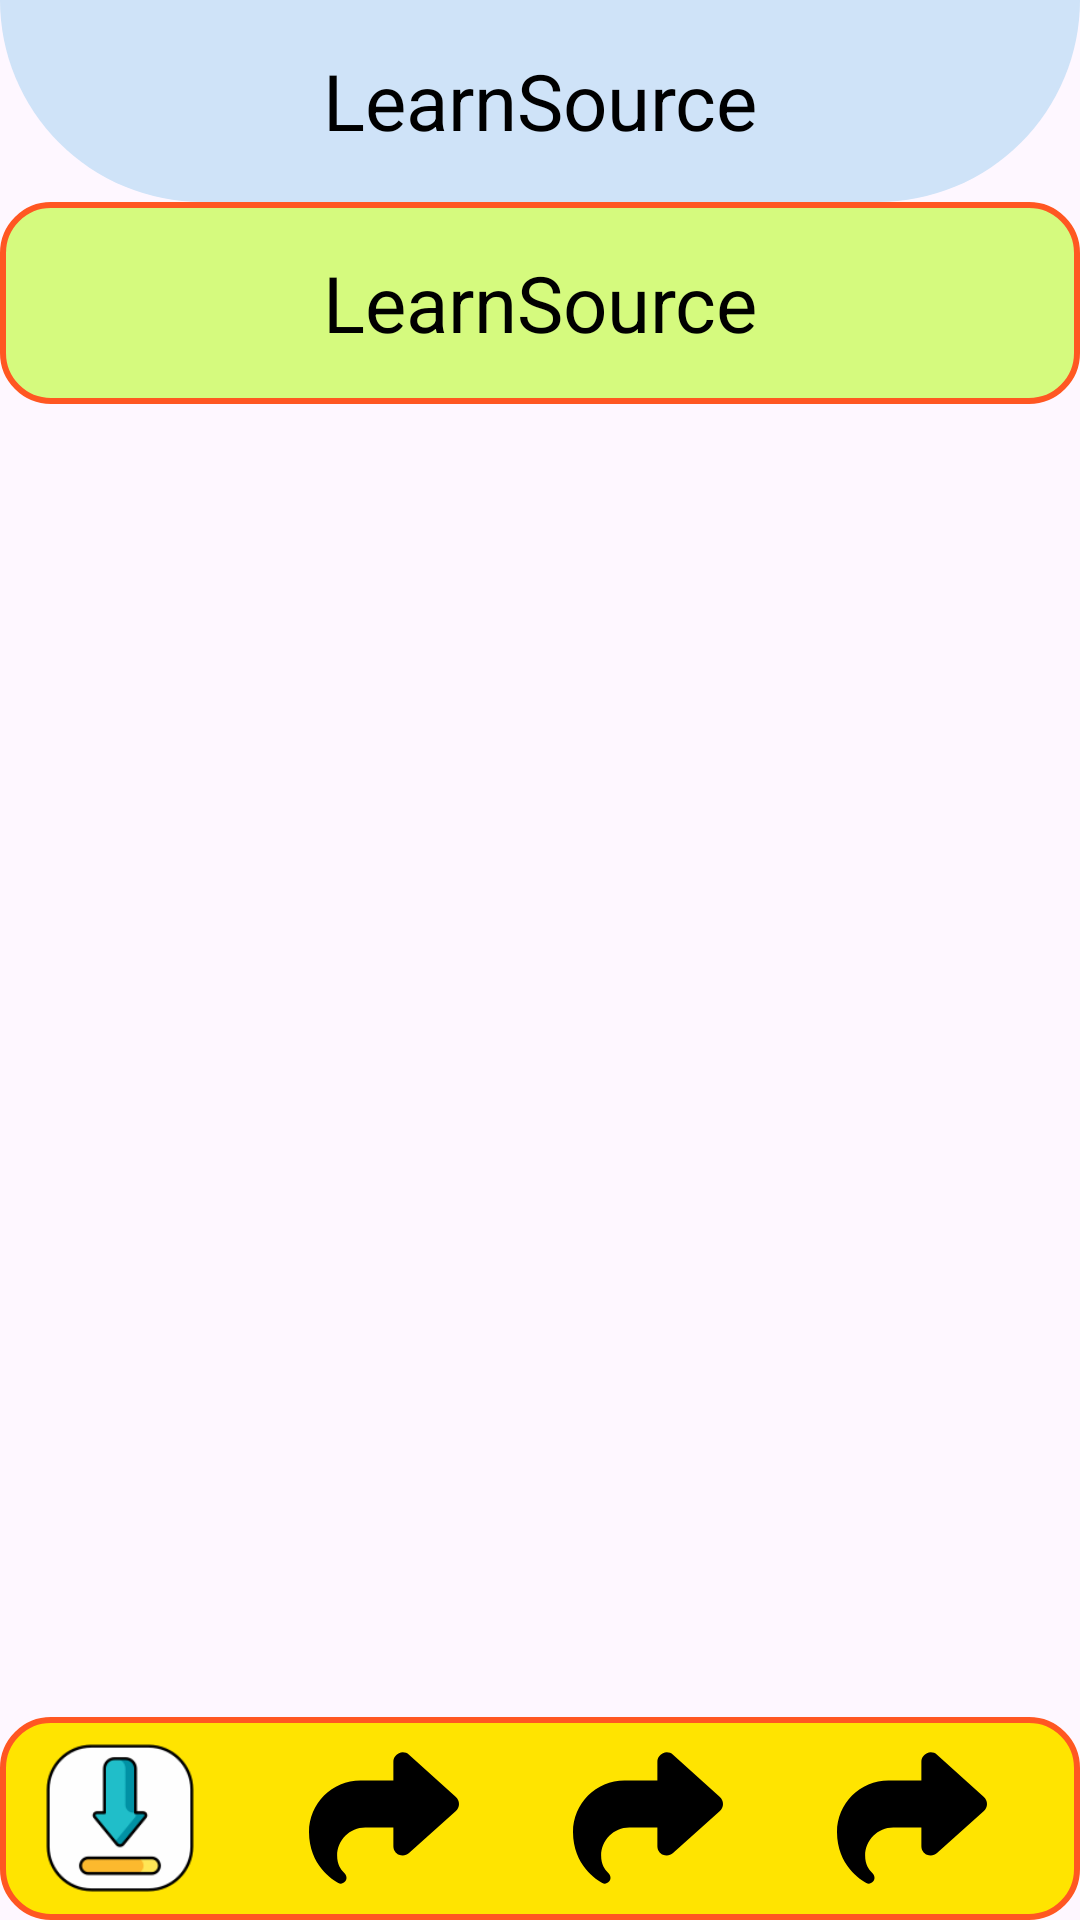

Icon bounding boxes for this 1080 × 1920 phone screenshot, format (x1, y1, x2, y2):
download: (46, 1744, 194, 1892)
share: (309, 1752, 459, 1884), (573, 1752, 723, 1884), (837, 1752, 987, 1884)
